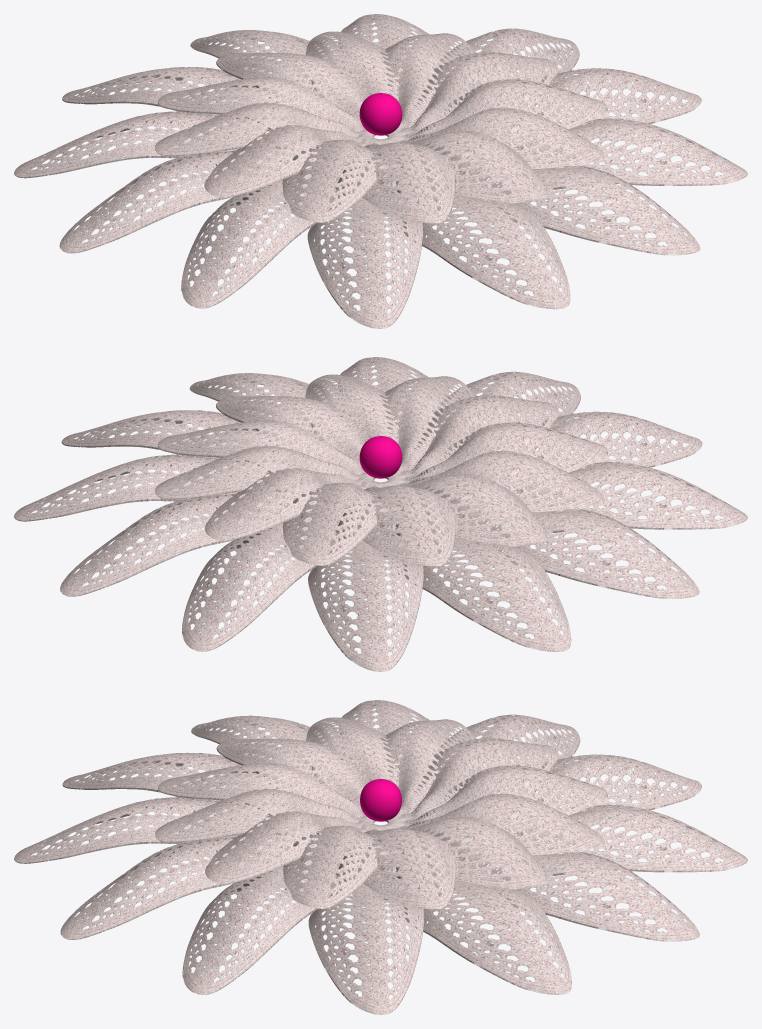
The model's file is lace center.glb.
The picture shows the model from 3 angles, top to bottom: view 1: azimuth 30°, elevation 25°; view 2: azimuth 150°, elevation 25°; view 3: azimuth 270°, elevation 25°; orthographic projection.
Visible parts, largest first — view 1: GN Instance (×24), Cube.001; view 2: GN Instance (×24), Cube.001; view 3: GN Instance (×24), Cube.001.
Part boxes in pixels (x1,y1,x2,y2): GN Instance (×24): (14, 14, 747, 328); Cube.001: (359, 93, 402, 135); GN Instance (×24): (14, 357, 747, 671); Cube.001: (359, 436, 402, 478); GN Instance (×24): (14, 700, 747, 1014); Cube.001: (360, 779, 401, 821).
Bounding box in the file's own units: 5.09 × 0.6023 × 5.09.
Materials: 2 (1 with a texture image).
